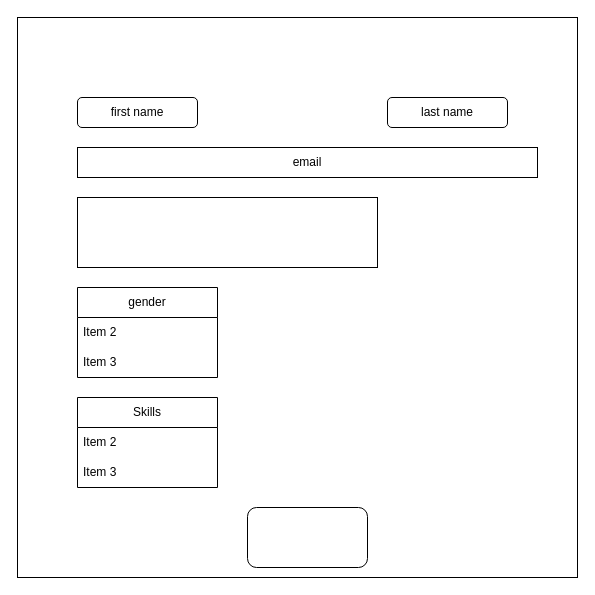
Some shapes in this 595 by 595 pixel diagram are drawn without their labels. The shapes that lost their labels are listed below. From the top down, each one's centre as x and y in pixels, then its label:
At (x=227, y=232): "cover letter".
At (x=307, y=537): "submit".
